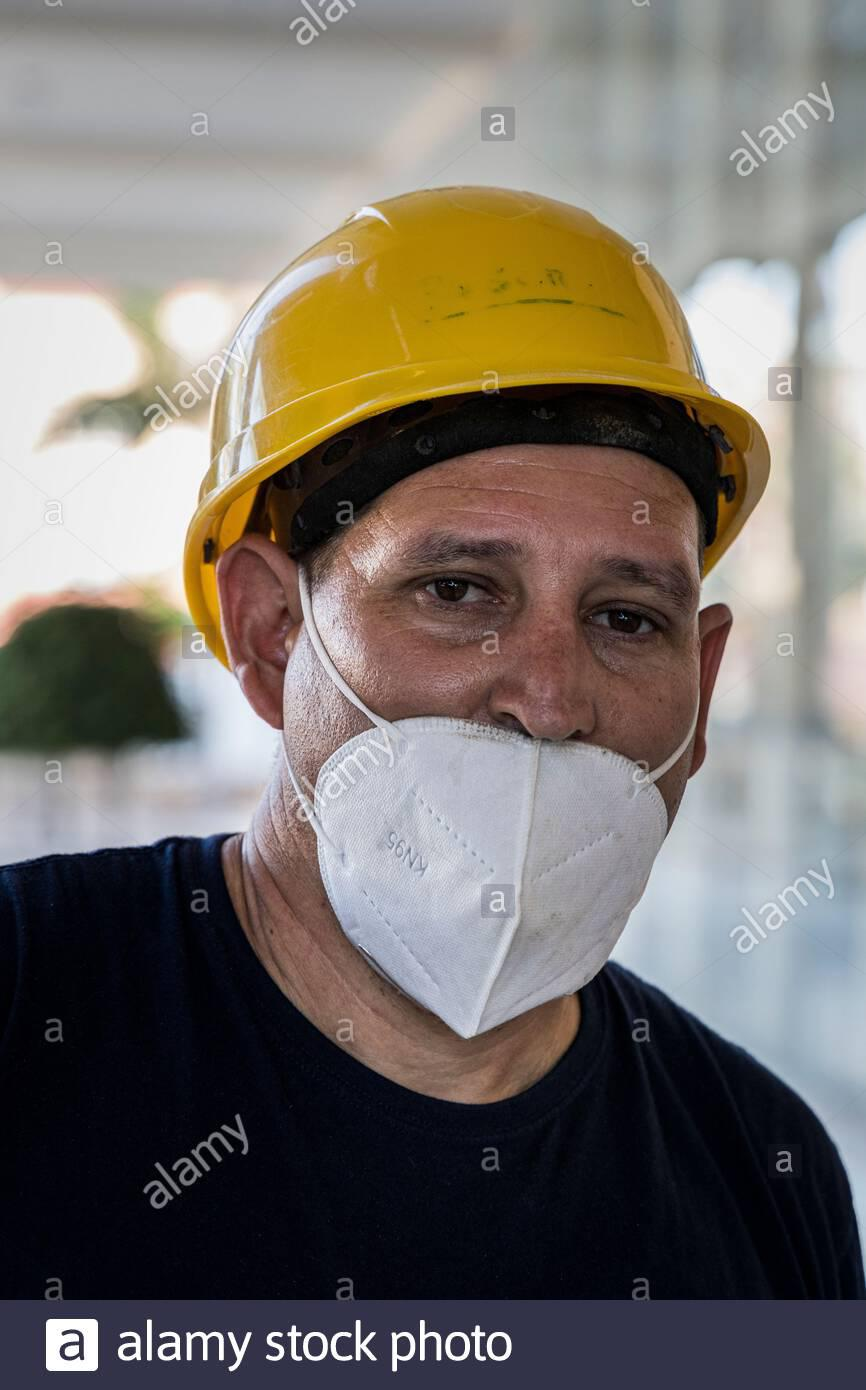hardhat: (184, 183, 778, 605)
worker: (2, 186, 866, 1298)
